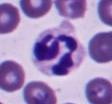N: (31, 26, 85, 76)
